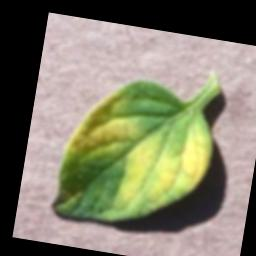Leaf_Mold: (49, 69, 223, 240)
